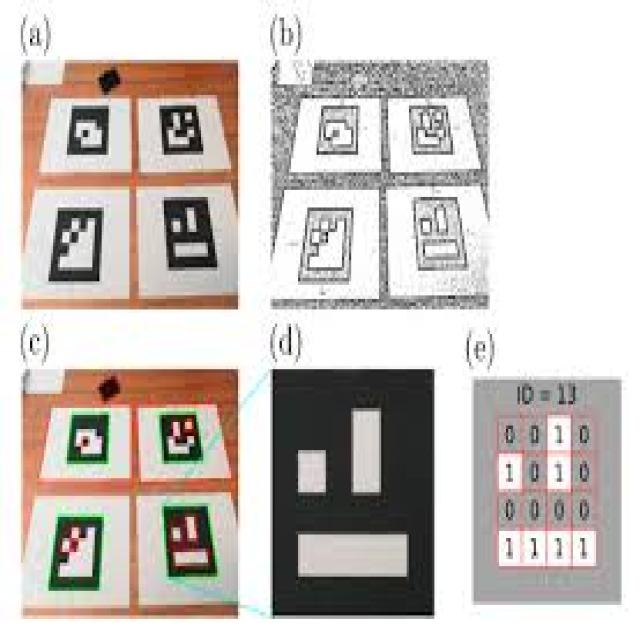aruco: (25, 45, 237, 310)
